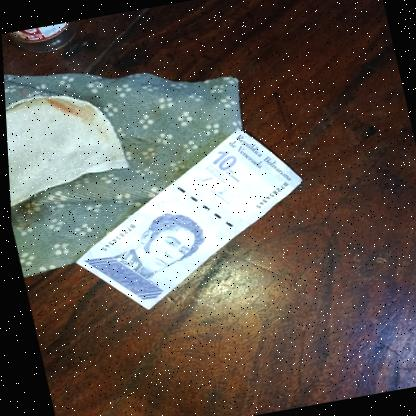ten-front-vef: (49, 119, 324, 322)
